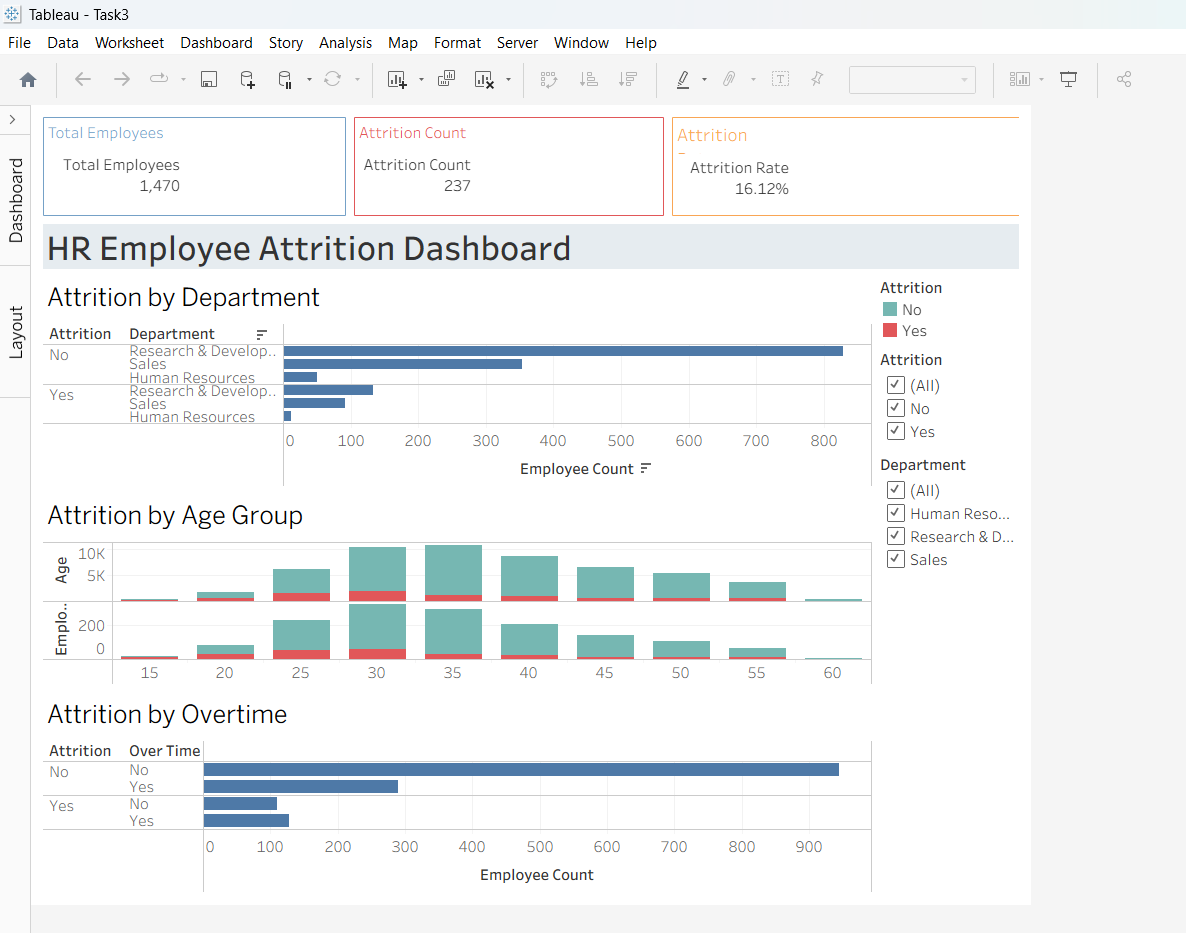

The dashboard page shown, as its layout file describes it:
{"tool":"tableau","page":{"name":"Dashboard 1","canvas":[1000,800],"ordinal":0},"visuals":[{"type":"worksheet","title":"Sheet 4","mark":"Automatic","box":[8,8,311,107]},{"type":"worksheet","title":"Sheet 5","mark":"Automatic","box":[319,8,317.5,107]},{"type":"worksheet","title":"Sheet 6","mark":"Automatic","box":[636.5,8,355.5,107]},{"type":"title","box":[8,115,984,53]},{"type":"worksheet","title":"Sheet 1","mark":"Automatic","rows":["Attrition","Department"],"cols":["EmployeeCount"],"box":[8,168,837,218.4]},{"type":"legend","title":"Sheet 2","param":"[federated.05b9z4q0l50yvn11o1ct1093zr1g].[none:Attrition:nk]","box":[845,168,147,72]},{"type":"filter","title":"Sheet 1","param":"[federated.05b9z4q0l50yvn11o1ct1093zr1g].[none:Attrition:nk]","box":[845,240,147,105]},{"type":"filter","title":"Sheet 1","param":"[federated.05b9z4q0l50yvn11o1ct1093zr1g].[none:Department:nk]","box":[845,345,147,128]},{"type":"worksheet","title":"Sheet 2","mark":"Automatic","rows":["Age","EmployeeCount"],"cols":["Age (bin)"],"box":[8,386.4,837,198.6]},{"type":"worksheet","title":"Sheet 3","mark":"Automatic","rows":["Attrition","OverTime"],"cols":["EmployeeCount"],"box":[8,585,837,207]}]}

Visuals, with their boxes on the page's 1000x800 design canvas (x1, y1, x2, y2). These are canvas units, not pixel positions in the 1186x933 screenshot, which may show the page scaled, cropped or inside an application window:
"Sheet 4" worksheet: 8, 8, 319, 115
"Sheet 5" worksheet: 319, 8, 636, 115
"Sheet 6" worksheet: 636, 8, 992, 115
title: 8, 115, 992, 168
"Sheet 1" worksheet: 8, 168, 845, 386
"Sheet 2" legend: 845, 168, 992, 240
"Sheet 1" filter: 845, 240, 992, 345
"Sheet 1" filter: 845, 345, 992, 473
"Sheet 2" worksheet: 8, 386, 845, 585
"Sheet 3" worksheet: 8, 585, 845, 792
